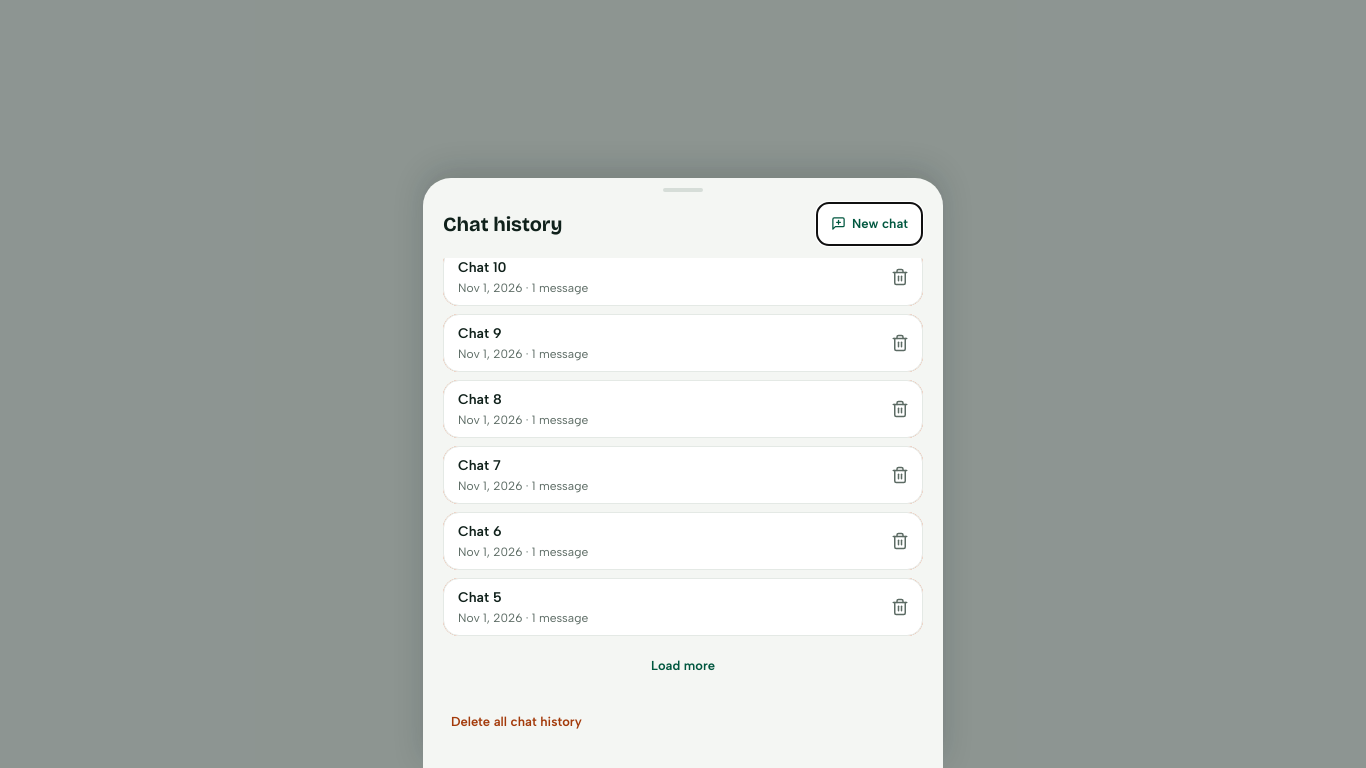
Test: ChatHistorySheet › lists the newest 20 with title, date and message count, and "Load more" brings the rest
(page scrolled)
Click the button with test id "chat-history-more".
click(683, 666)  # box x1=635 y1=644 x2=731 y2=688
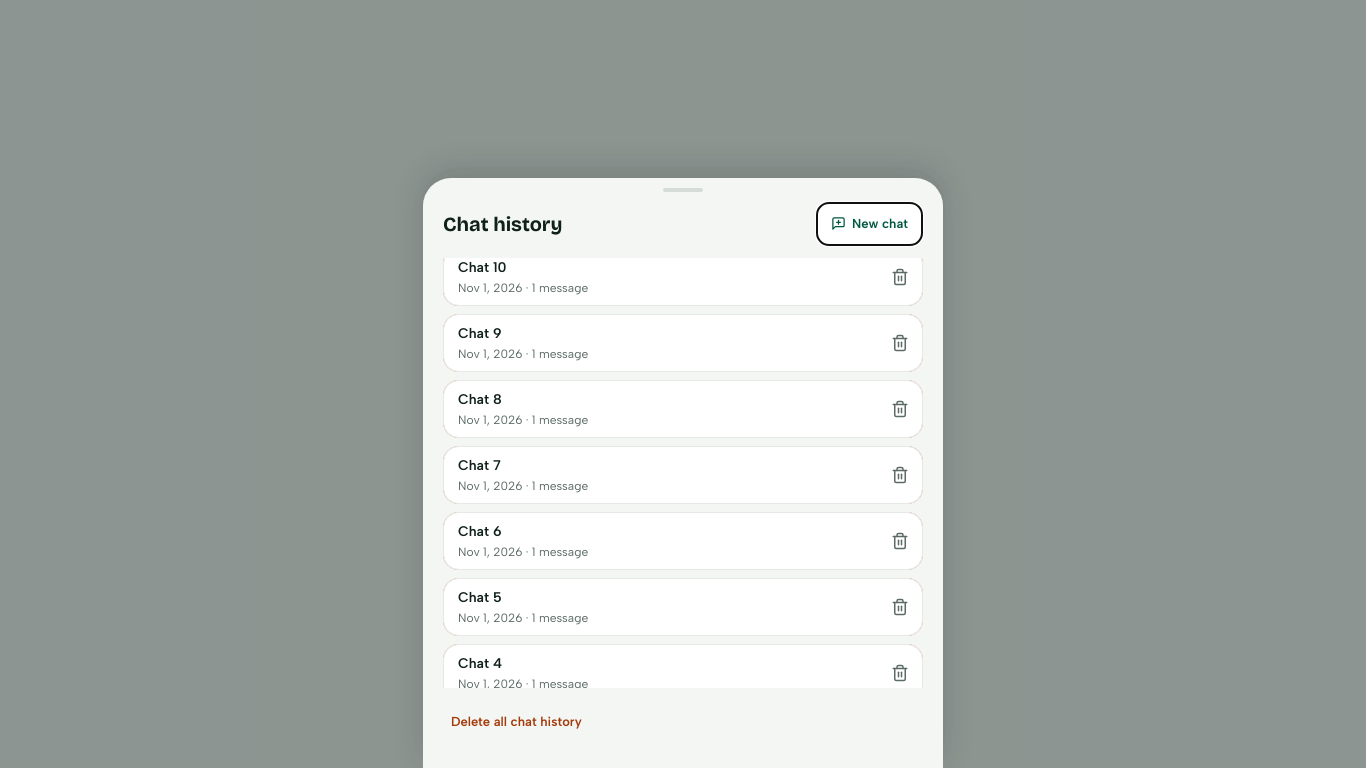
Result: the button with test id "chat-history-more" is gone
